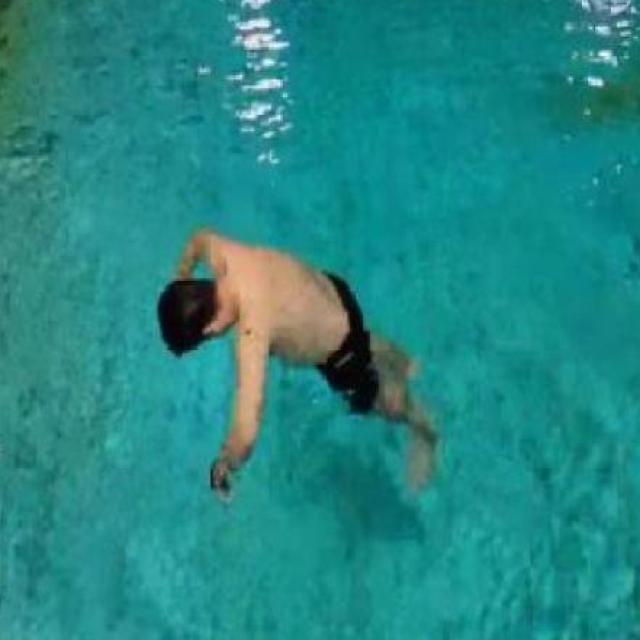Drowning: (158, 229, 440, 505)
